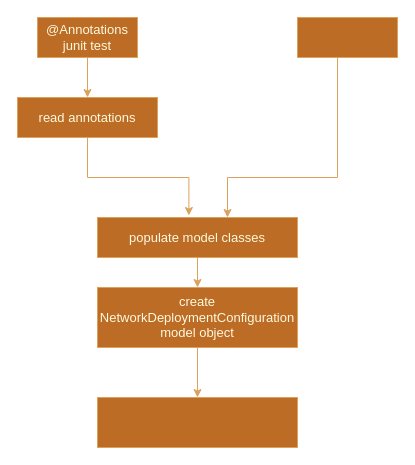
The diagram is 415 pixels wide and 465 high, and some of its shapes have lost their labels. The centre of each missing label's shape, as x and y in pixels:
"CLI (Future)" goes at [347,37].
"using TestToolkit create NetworkDeployment" goes at [197,422].
